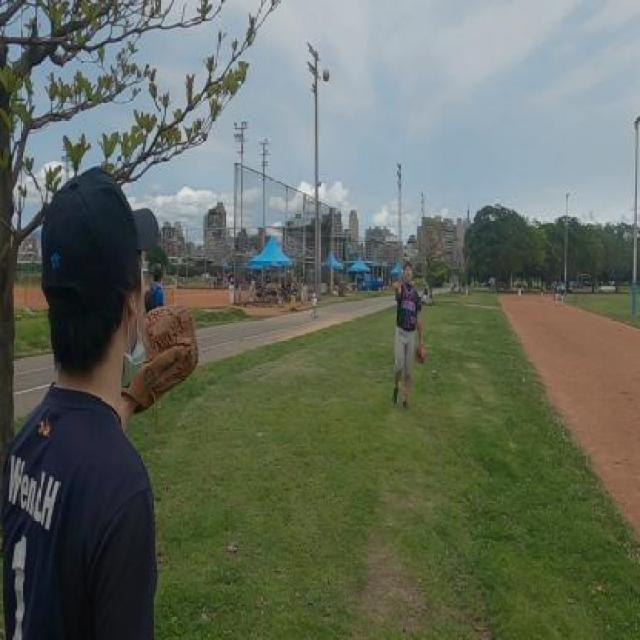baseball: (322, 68, 330, 82)
